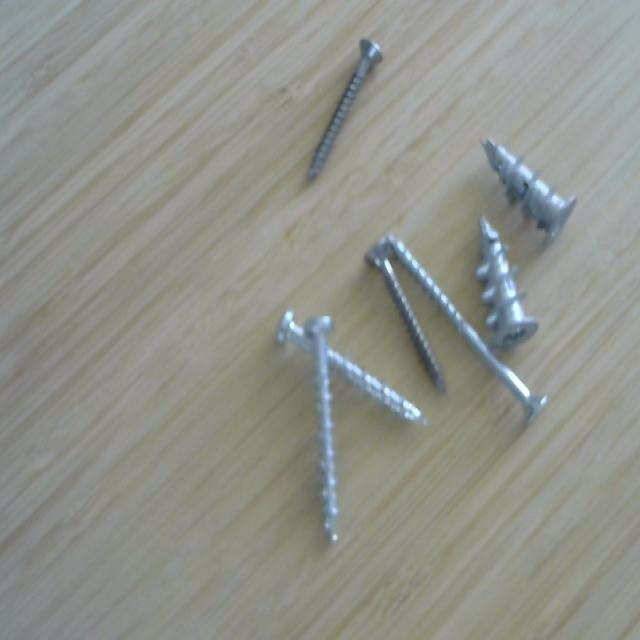Black screw: (358, 225, 459, 405), (301, 30, 392, 188)
Long screw: (375, 225, 555, 439)
Medium screw: (266, 299, 439, 441), (305, 308, 348, 552)
Short screw: (468, 121, 586, 259), (465, 201, 548, 360)
